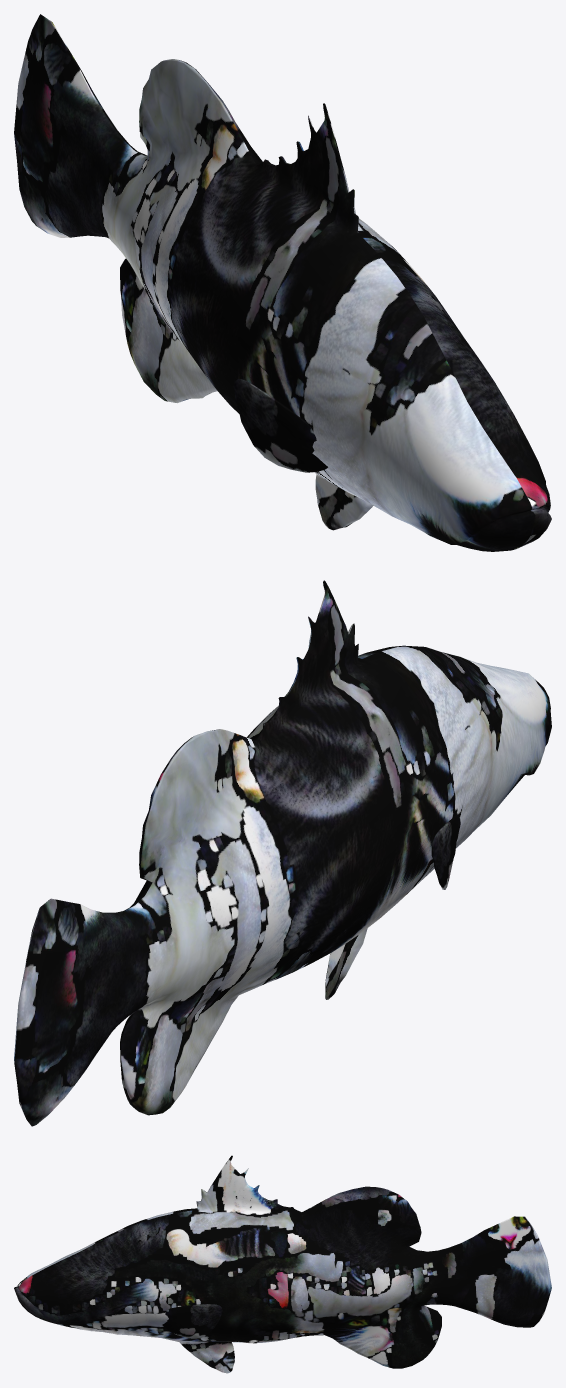
The model's file is fish_blender.gltf.
3 views of the same model, one above another, from view 1: azimuth 30°, elevation 25°; view 2: azimuth 150°, elevation 25°; view 3: azimuth 270°, elevation 25° (orthographic). The views are drawn at different scales.
Visible parts, largest first — view 1: BarramundiFish; view 2: BarramundiFish; view 3: BarramundiFish.
Part boxes in pixels (x1=…): BarramundiFish: x1=14, y1=14, x2=551, y2=551; BarramundiFish: x1=14, y1=580, x2=551, y2=1126; BarramundiFish: x1=14, y1=1155, x2=551, y2=1373.
Bounding box in the file's own units: 0.1429 × 0.2875 × 0.6431.
